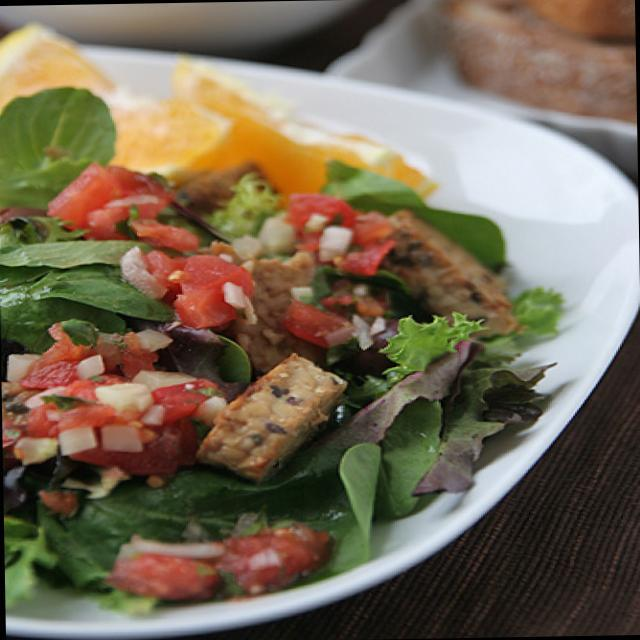Green Salad: (0, 89, 510, 582)
